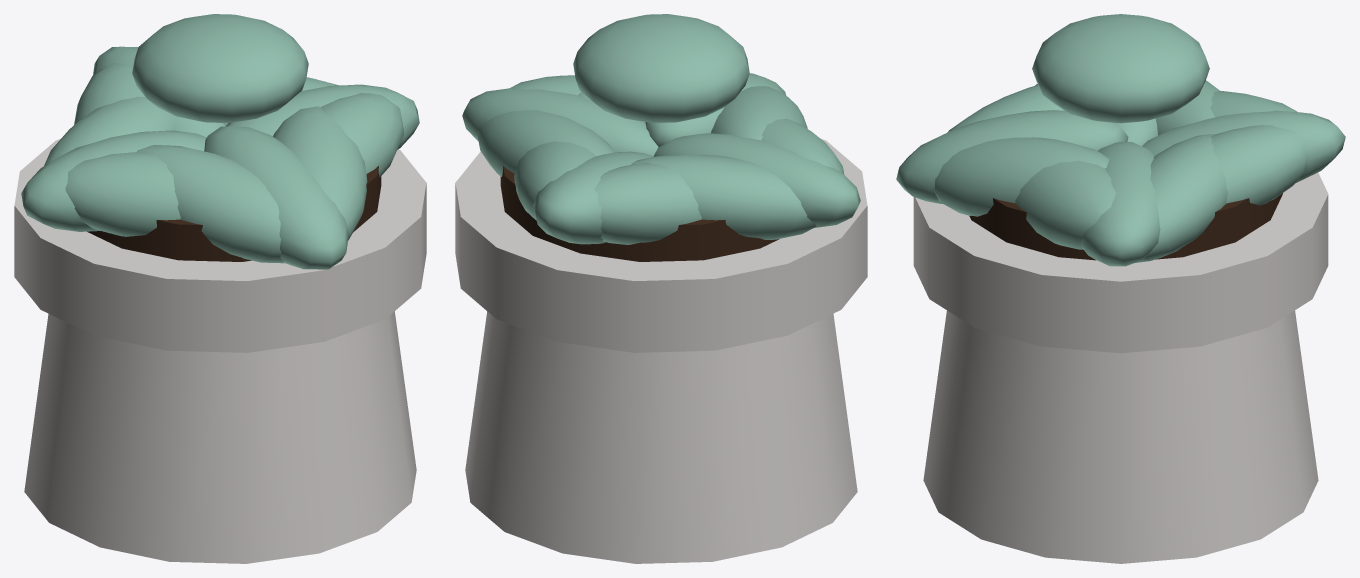
3 views of the same model, side by side, from view 1: azimuth 30°, elevation 25°; view 2: azimuth 150°, elevation 25°; view 3: azimuth 270°, elevation 25° (orthographic).
Parts seen in each view (by area): view 1: tabletop-succulent; view 2: tabletop-succulent; view 3: tabletop-succulent.
Part boxes in pixels (left/top/right/bottom): tabletop-succulent: left=14, top=14, right=426, bottom=563; tabletop-succulent: left=455, top=14, right=867, bottom=563; tabletop-succulent: left=896, top=14, right=1345, bottom=563.
Size of the model in its own units: 0.23 by 0.2525 by 0.2276.
